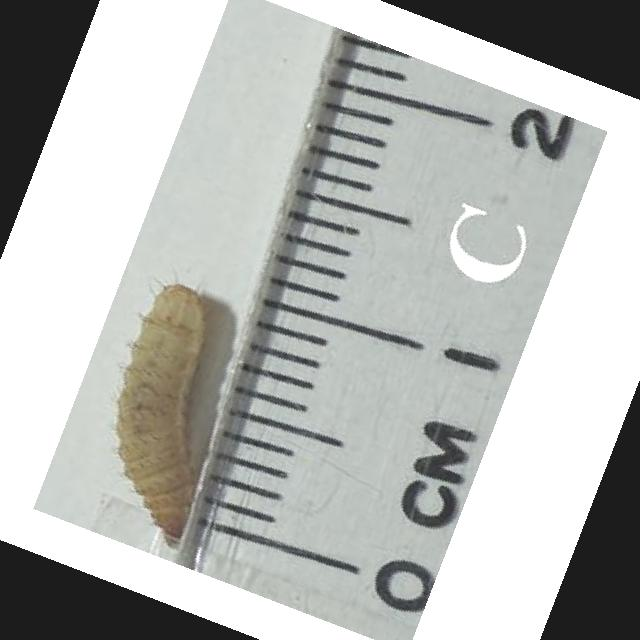Maggot: (113, 285, 210, 549)
